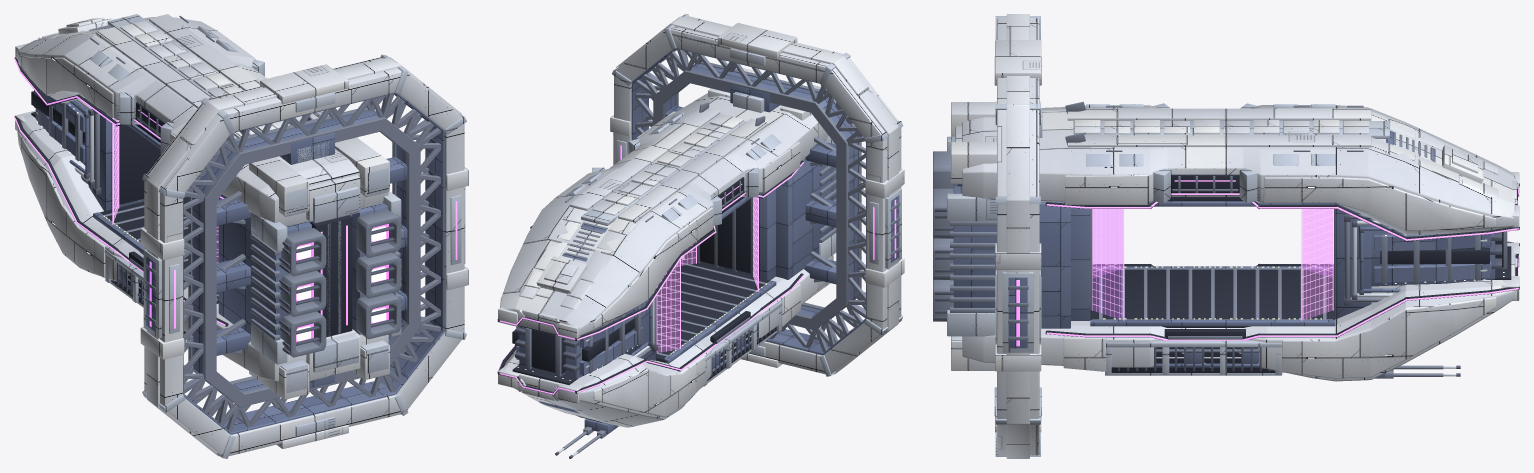
File: opencode_carrier.glb
3 views of the same model, side by side, from view 1: azimuth 30°, elevation 25°; view 2: azimuth 150°, elevation 25°; view 3: azimuth 270°, elevation 25° (orthographic). The views are drawn at different scales.
Parts seen in each view (by area): view 1: Ring_OuterArmorShroud_Main, Hull_UpperArmorBeam_Main, Ring_InnerSteelFlange_Back, Ring_OuterShroudInnerLip, Hull_LowerArmorBeam_Main, Ring_OuterArmorCenterBand, Stern_EngineColumnBody_Port, Ring_InnerSteelRing_Main, Hull_LowerFwdCheekPlate_Port, Stern_CentralReactorCavity, Hull_UpperFwdCheekPlate_Port, Jaw_ForwardPortalBulkheadRecess (+44 smaller); view 2: Hull_UpperArmorBeam_Main, Ring_OuterArmorShroud_Main, Hull_LowerArmorBeam_Main, Ring_InnerSteelFlange_Front, Portal_GalleryCore_Floor, Stern_EngineColumnBody_Port, Ring_OuterArmorCenterBand, Hull_LowerFwdCheekPlate_Port, Hull_UpperFwdCheekPlate_Port, Hull_DorsalDeckRunner_Stbd, Hull_DorsalDeckRunner_Port, Ring_InnerSteelRing_Main (+36 smaller); view 3: Hull_UpperArmorBeam_Main, Portal_GalleryCore_Floor, Hull_LowerArmorBeam_Main, Hull_LowerFwdCheekPlate_Stbd, Ring_OuterArmorCenterBand, Hull_UpperFwdCheekPlate_Stbd, Ring_OuterArmorShroud_Main, Stern_EngineColumnBody_Stbd, Hull_DorsalDeckRunner_Port, Hull_DorsalDeckRunner_Stbd, Portal_HoloSheet_Fwd_Stbd, Portal_HoloSheet_Aft_Stbd (+36 smaller).
Boxes of the visible parts, left/top/right/bottom form: Ring_OuterArmorShroud_Main: left=144, top=57, right=464, bottom=455; Hull_UpperArmorBeam_Main: left=17, top=17, right=388, bottom=226; Ring_InnerSteelFlange_Back: left=202, top=117, right=420, bottom=407; Ring_OuterShroudInnerLip: left=183, top=92, right=444, bottom=434; Hull_LowerArmorBeam_Main: left=17, top=114, right=388, bottom=381; Ring_OuterArmorCenterBand: left=146, top=57, right=461, bottom=456; Stern_EngineColumnBody_Port: left=218, top=194, right=311, bottom=338; Ring_InnerSteelRing_Main: left=192, top=110, right=406, bottom=392; Hull_LowerFwdCheekPlate_Port: left=18, top=132, right=105, bottom=277; Stern_CentralReactorCavity: left=310, top=215, right=352, bottom=337; Hull_UpperFwdCheekPlate_Port: left=18, top=55, right=113, bottom=117; Jaw_ForwardPortalBulkheadRecess: left=119, top=120, right=161, bottom=204; Hull_UpperArmorBeam_Main: left=500, top=93, right=828, bottom=335; Ring_OuterArmorShroud_Main: left=614, top=16, right=901, bottom=374; Hull_LowerArmorBeam_Main: left=504, top=255, right=832, bottom=427; Ring_InnerSteelFlange_Front: left=653, top=70, right=848, bottom=330; Portal_GalleryCore_Floor: left=656, top=259, right=770, bottom=362; Stern_EngineColumnBody_Port: left=776, top=158, right=836, bottom=279; Ring_OuterArmorCenterBand: left=616, top=16, right=898, bottom=374; Hull_LowerFwdCheekPlate_Port: left=593, top=355, right=705, bottom=417; Hull_UpperFwdCheekPlate_Port: left=593, top=207, right=712, bottom=329; Hull_DorsalDeckRunner_Stbd: left=570, top=108, right=720, bottom=210; Hull_DorsalDeckRunner_Port: left=618, top=118, right=768, bottom=222; Ring_InnerSteelRing_Main: left=666, top=64, right=857, bottom=316; Hull_UpperArmorBeam_Main: left=962, top=105, right=1515, bottom=234; Portal_GalleryCore_Floor: left=1090, top=269, right=1335, bottom=327; Hull_LowerArmorBeam_Main: left=962, top=244, right=1515, bottom=381; Hull_LowerFwdCheekPlate_Stbd: left=1282, top=297, right=1496, bottom=378; Ring_OuterArmorCenterBand: left=1006, top=14, right=1029, bottom=458; Hull_UpperFwdCheekPlate_Stbd: left=1264, top=177, right=1496, bottom=230; Ring_OuterArmorShroud_Main: left=997, top=18, right=1039, bottom=455; Stern_EngineColumnBody_Stbd: left=953, top=186, right=1070, bottom=328; Hull_DorsalDeckRunner_Port: left=1067, top=108, right=1371, bottom=120; Hull_DorsalDeckRunner_Stbd: left=1067, top=135, right=1371, bottom=147; Portal_HoloSheet_Fwd_Stbd: left=1302, top=209, right=1332, bottom=319; Portal_HoloSheet_Aft_Stbd: left=1093, top=209, right=1122, bottom=319.
Bounding box in the file's own units: 13.66 × 14.92 × 22.03.
17 materials, 4 textured.
